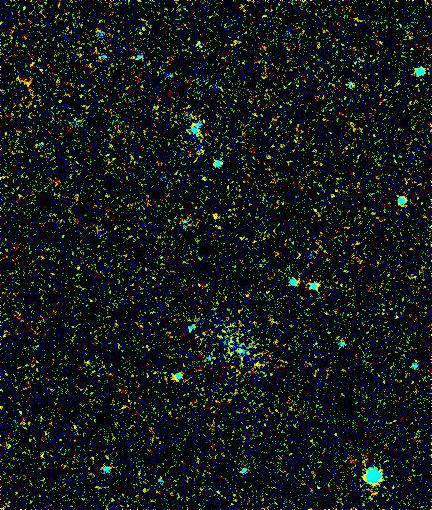star: (199, 201, 229, 231)
